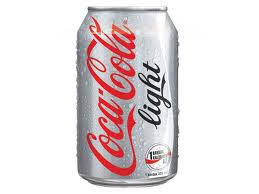can: (70, 2, 182, 186)
